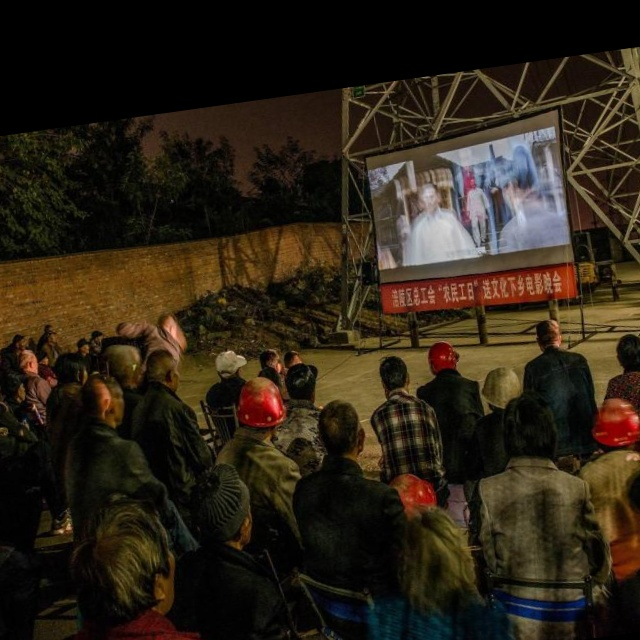Con_Casco: (480, 363, 523, 413), (425, 339, 459, 375)
Sin_Casco_Mascarrilla: (318, 398, 363, 459), (377, 353, 412, 394)
Sin_Chaleco: (369, 392, 441, 476)
